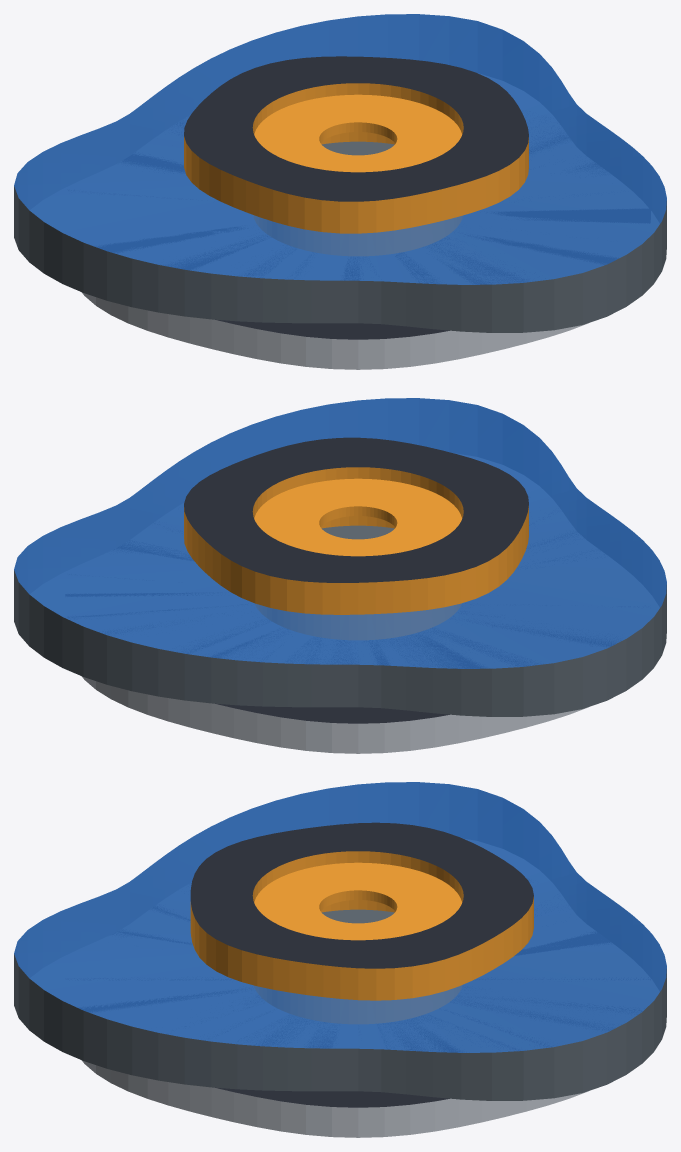
File: assembly_phase2b_gear_high.glb
3 views of the same model, one above another, from view 1: azimuth 30°, elevation 25°; view 2: azimuth 150°, elevation 25°; view 3: azimuth 270°, elevation 25° (orthographic).
Parts seen in each view (by area): view 1: GEO_blade_storm_fang_BODY, GEO_core_solar_wolf_BODY, GEO_assist_heavy_BODY, GEO_core_solar_wolf_NSS_V1_COLLAR, GEO_blade_storm_fang_NSS_V1_COLLAR; view 2: GEO_blade_storm_fang_BODY, GEO_core_solar_wolf_BODY, GEO_assist_heavy_BODY, GEO_core_solar_wolf_NSS_V1_COLLAR, GEO_blade_storm_fang_NSS_V1_COLLAR; view 3: GEO_blade_storm_fang_BODY, GEO_core_solar_wolf_BODY, GEO_assist_heavy_BODY, GEO_core_solar_wolf_NSS_V1_COLLAR, GEO_blade_storm_fang_NSS_V1_COLLAR.
Boxes of the visible parts, x1,y1,x2,y2 form: GEO_blade_storm_fang_BODY: [14, 14, 666, 332]; GEO_core_solar_wolf_BODY: [184, 56, 528, 233]; GEO_assist_heavy_BODY: [81, 122, 650, 369]; GEO_core_solar_wolf_NSS_V1_COLLAR: [254, 94, 462, 172]; GEO_blade_storm_fang_NSS_V1_COLLAR: [321, 141, 394, 155]; GEO_blade_storm_fang_BODY: [14, 398, 666, 716]; GEO_core_solar_wolf_BODY: [184, 437, 528, 614]; GEO_assist_heavy_BODY: [65, 533, 615, 753]; GEO_core_solar_wolf_NSS_V1_COLLAR: [254, 478, 462, 556]; GEO_blade_storm_fang_NSS_V1_COLLAR: [321, 525, 394, 539]; GEO_blade_storm_fang_BODY: [14, 782, 666, 1100]; GEO_core_solar_wolf_BODY: [190, 822, 533, 1000]; GEO_assist_heavy_BODY: [77, 906, 650, 1137]; GEO_core_solar_wolf_NSS_V1_COLLAR: [254, 862, 462, 940]; GEO_blade_storm_fang_NSS_V1_COLLAR: [321, 909, 394, 923].
Size of the model in its own units: 0.0664 by 0.0259 by 0.0669.
